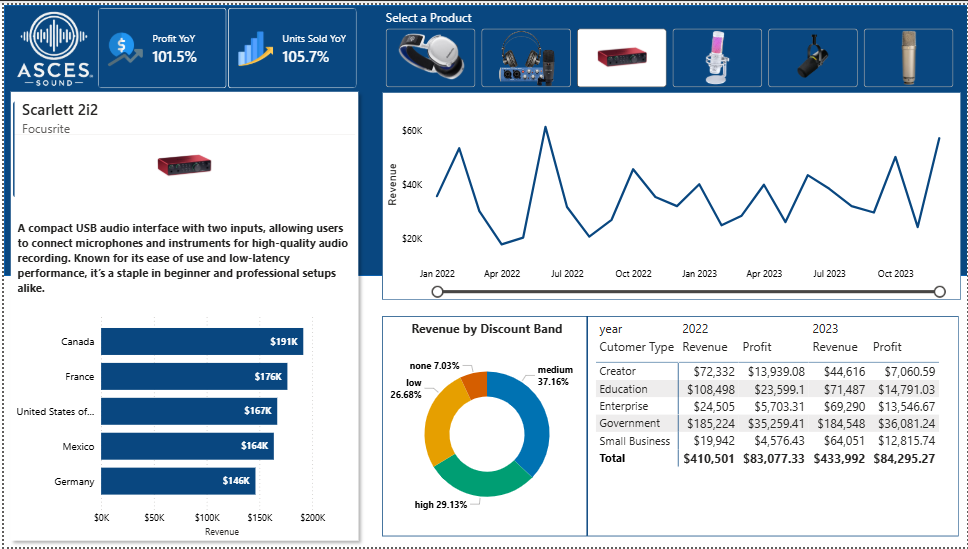

What the dashboard file says about the page in this screenshot:
{"tool":"powerbi","page":{"name":"Main Dashboard","canvas":[1280,720],"ordinal":0},"visuals":[{"type":"shape","box":[0,0,1280.2,360],"z":0},{"type":"shape","box":[0,106.1,479.5,613.9],"z":0,"group":"g3"},{"type":"shape","box":[502.4,115,769.3,276.3],"z":0,"group":"g1"},{"type":"shape","box":[501.9,413.8,766.3,292.8],"z":0,"group":"g2"},{"type":"image","box":[0,0,122.5,112],"z":1000},{"type":"cardVisual","fields":{"Data":["Min(public vw_sales.product)"]},"box":[0,115.1,479.5,152.4],"z":1000,"group":"g3"},{"type":"lineChart","fields":{"Category":["public vw_sales.date"],"Y":["Sum(public vw_sales.revenue)"]},"box":[502.4,116.5,769.3,274.9],"z":1000,"group":"g1"},{"type":"donutChart","title":"Revenue by Discount Band","fields":{"Category":["public vw_sales.discount_band"],"Y":["Sum(public vw_sales.revenue_after_discount)"]},"box":[501.9,419.8,279,282.3],"z":1000,"group":"g2"},{"type":"advancedSlicerVisual","title":"Select a Product","fields":{"Values":["public vw_sales.image_url"]},"box":[501.9,6,766.3,109],"z":2000},{"type":"cardVisual","fields":{"Data":["Min(product_data.description)"]},"box":[0,267.4,479.5,134.4],"z":2000,"group":"g3"},{"type":"pivotTable","fields":{"Rows":["public vw_sales.customer_type"],"Columns":["public vw_sales.year"],"Values":["Sum(public vw_sales.revenue)","Sum(public vw_sales.Profit)"]},"box":[780.9,413.8,487.3,288.3],"z":2000,"group":"g2"},{"type":"cardVisual","fields":{"Data":["public vw_sales.Profit YoY","public vw_sales.Units_sold YoY"]},"box":[124,3,347,109],"z":3000},{"type":"clusteredBarChart","fields":{"Y":["Sum(public vw_sales.revenue)"],"Category":["public vw_sales.country"]},"box":[0,401.9,467.3,304.7],"z":3000,"group":"g3"},{"type":"shape","box":[768.4,413.8,11.2,292],"z":3000,"group":"g2"},{"type":"group","id":"g1","title":"Line Chart","box":[502.4,115,769.3,276.3],"z":4000},{"type":"group","id":"g2","title":"Pie & Matrix","box":[501.9,413.8,766.3,292.8],"z":5000},{"type":"group","id":"g3","title":"Product Detail","box":[0,106.1,479.5,613.9],"z":6000}]}

Visuals, with their boxes in screenshot pixels (x1, y1, x2, y2), scaled from the page's 1280x720 canvas onto the 968x549 screenshot:
shape: [x1=0, y1=0, x2=967, y2=274]
shape: [x1=0, y1=81, x2=363, y2=548]
shape: [x1=380, y1=88, x2=962, y2=298]
shape: [x1=380, y1=316, x2=959, y2=539]
image: [x1=0, y1=0, x2=93, y2=85]
cardVisual - Min(public vw_sales.product): [x1=0, y1=88, x2=363, y2=204]
lineChart - public vw_sales.date x Sum(public vw_sales.revenue): [x1=380, y1=89, x2=962, y2=298]
"Revenue by Discount Band" donutChart: [x1=380, y1=320, x2=591, y2=535]
"Select a Product" advancedSlicerVisual: [x1=380, y1=5, x2=959, y2=88]
cardVisual - Min(product_data.description): [x1=0, y1=204, x2=363, y2=306]
pivotTable - public vw_sales.customer_type x public vw_sales.year: [x1=591, y1=316, x2=959, y2=535]
cardVisual - public vw_sales.Profit YoY x public vw_sales.Units_sold YoY: [x1=94, y1=2, x2=356, y2=85]
clusteredBarChart - Sum(public vw_sales.revenue) x public vw_sales.country: [x1=0, y1=306, x2=353, y2=539]
shape: [x1=581, y1=316, x2=590, y2=538]
"Line Chart" group: [x1=380, y1=88, x2=962, y2=298]
"Pie & Matrix" group: [x1=380, y1=316, x2=959, y2=539]
"Product Detail" group: [x1=0, y1=81, x2=363, y2=548]
